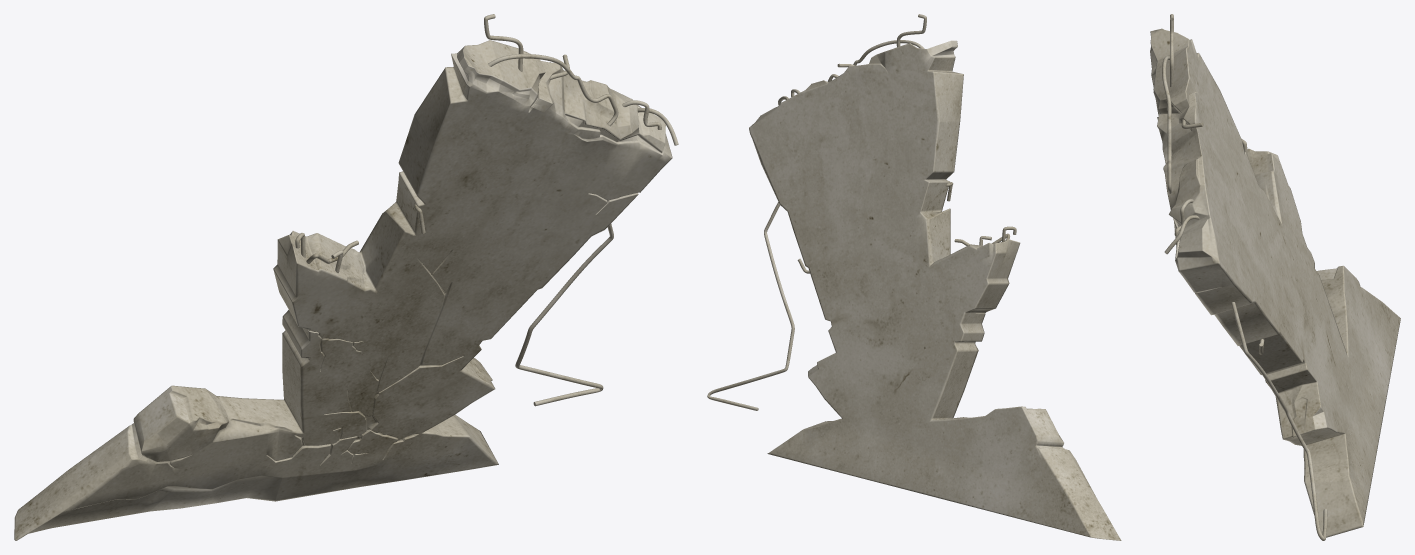
Rendered from Broken_Piece_Of_Wall.fbx.
3 views of the same model, side by side, from view 1: azimuth 30°, elevation 25°; view 2: azimuth 150°, elevation 25°; view 3: azimuth 270°, elevation 25° (orthographic). The views are drawn at different scales.
Visible parts, largest first — view 1: Broken_wall2:wall, Broken_wall2:steel; view 2: Broken_wall2:wall, Broken_wall2:steel; view 3: Broken_wall2:wall, Broken_wall2:steel.
Part boxes in pixels (x1,y1,x2,y2): Broken_wall2:wall: (14, 40, 672, 540); Broken_wall2:steel: (295, 14, 678, 406); Broken_wall2:wall: (749, 40, 1121, 540); Broken_wall2:steel: (707, 14, 1016, 410); Broken_wall2:wall: (1150, 28, 1400, 537); Broken_wall2:steel: (1162, 14, 1327, 540).
Size of the model in its own units: 40.42 by 36.29 by 17.08.
Materials: 1 (1 with a texture image).
